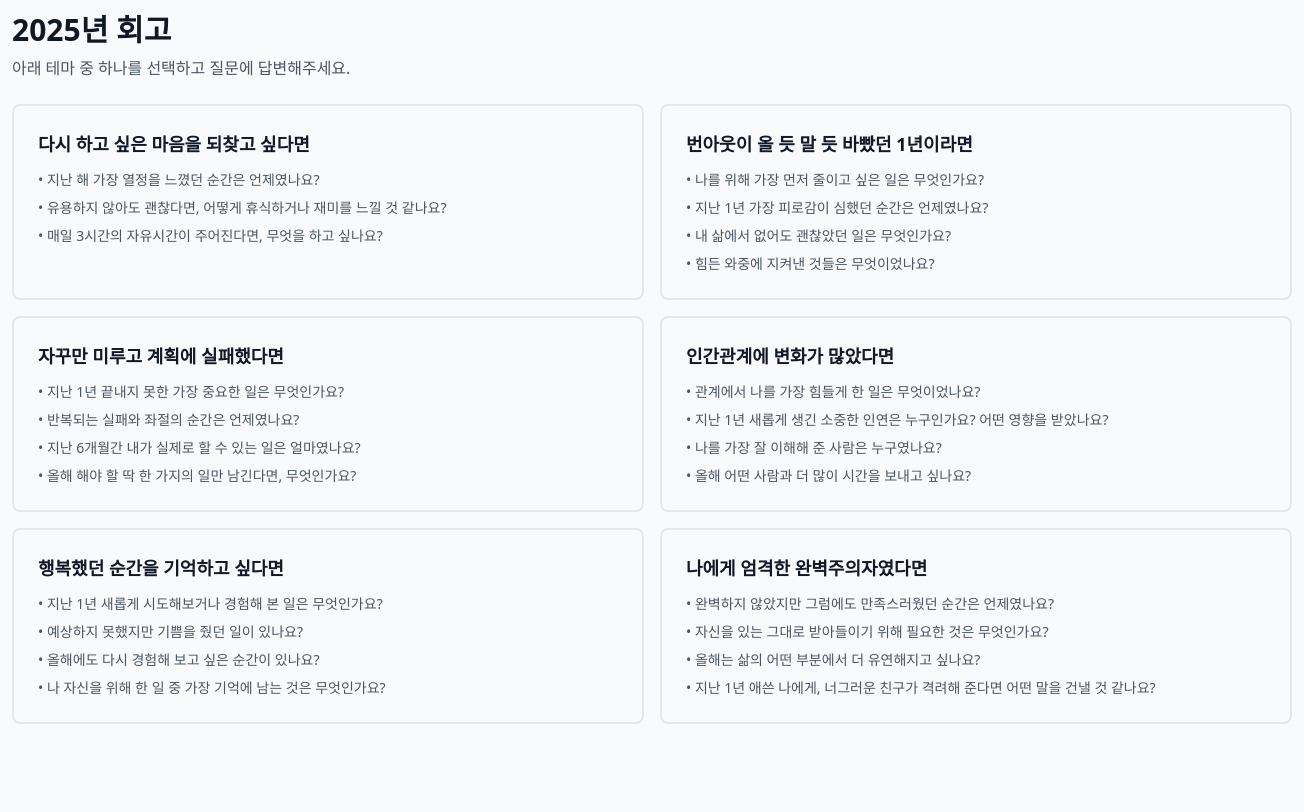
Scenario: Day1Reflection › Save Functionality › should enable save button when theme is selected and at least one answer is provided
Click the heading "다시 하고 싶은 마음을 되찾고 싶다면": (174, 144) [38,132,310,156]
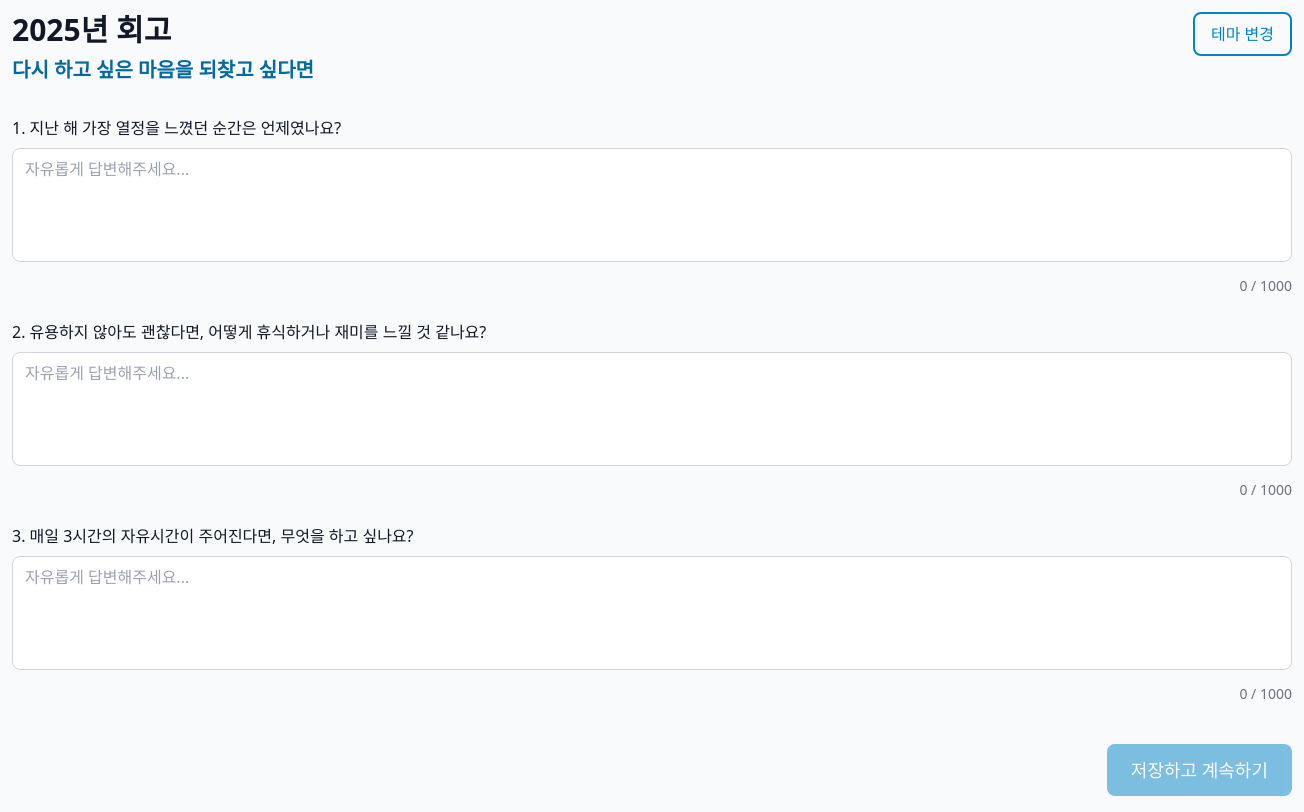
In the text box with placeholder "자유롭게 답변해주세요..." below "지난 해 가장 열정을 느꼈던 순간은 언제였나요?": (652, 205) [12,148,1292,262], type "테스트 답변입니다."
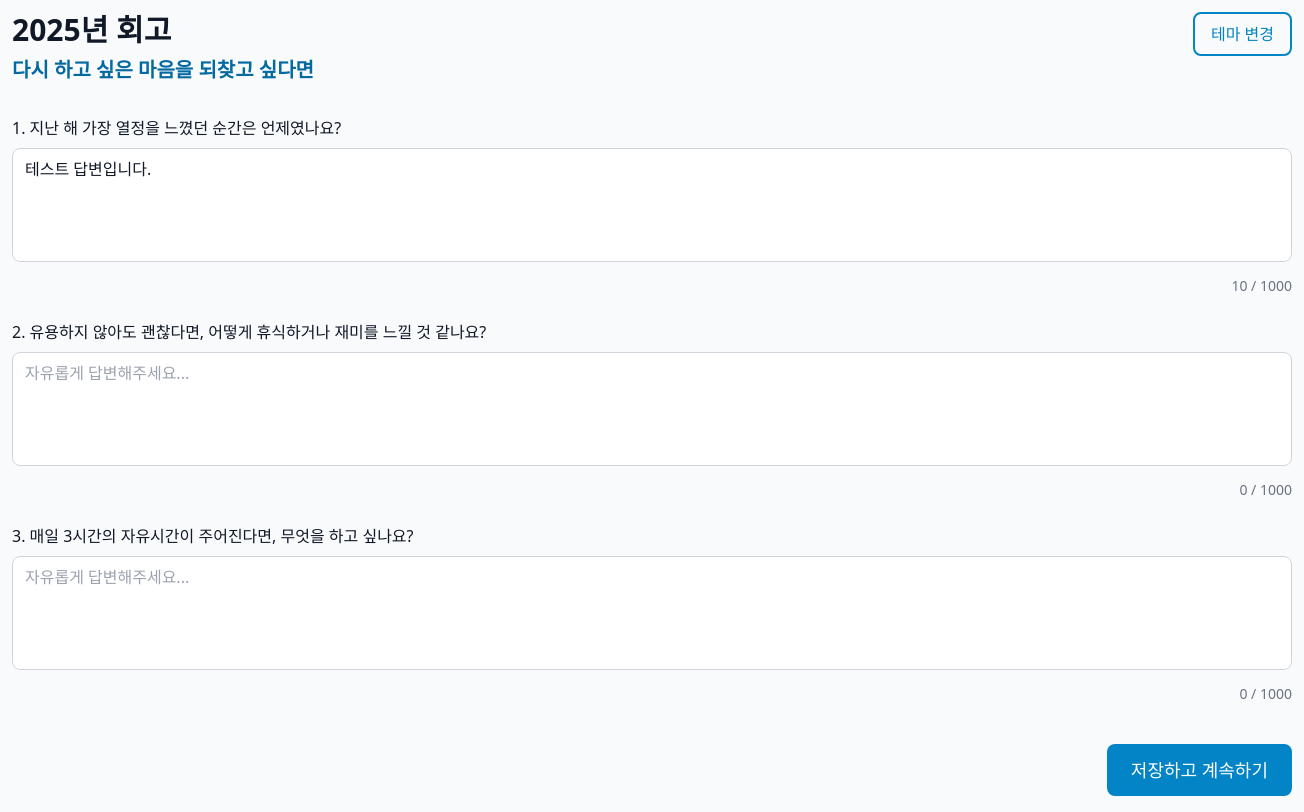
Expected: the button "저장하고 계속하기" is enabled, [1107,744,1292,796]
